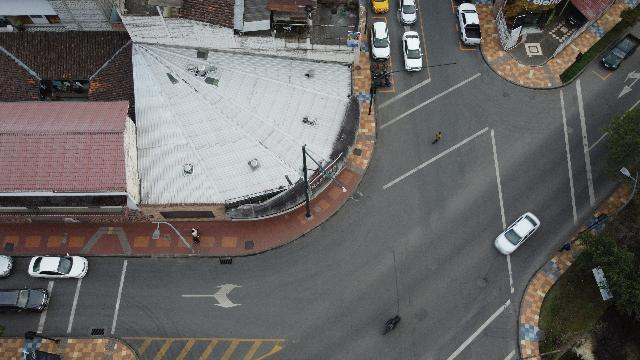Vehiculo: (494, 212, 540, 256), (601, 34, 639, 70), (28, 256, 88, 278), (0, 287, 50, 313), (456, 3, 482, 45), (402, 30, 422, 72), (370, 22, 390, 61), (398, 0, 418, 26), (0, 255, 14, 278), (372, 1, 388, 14)
